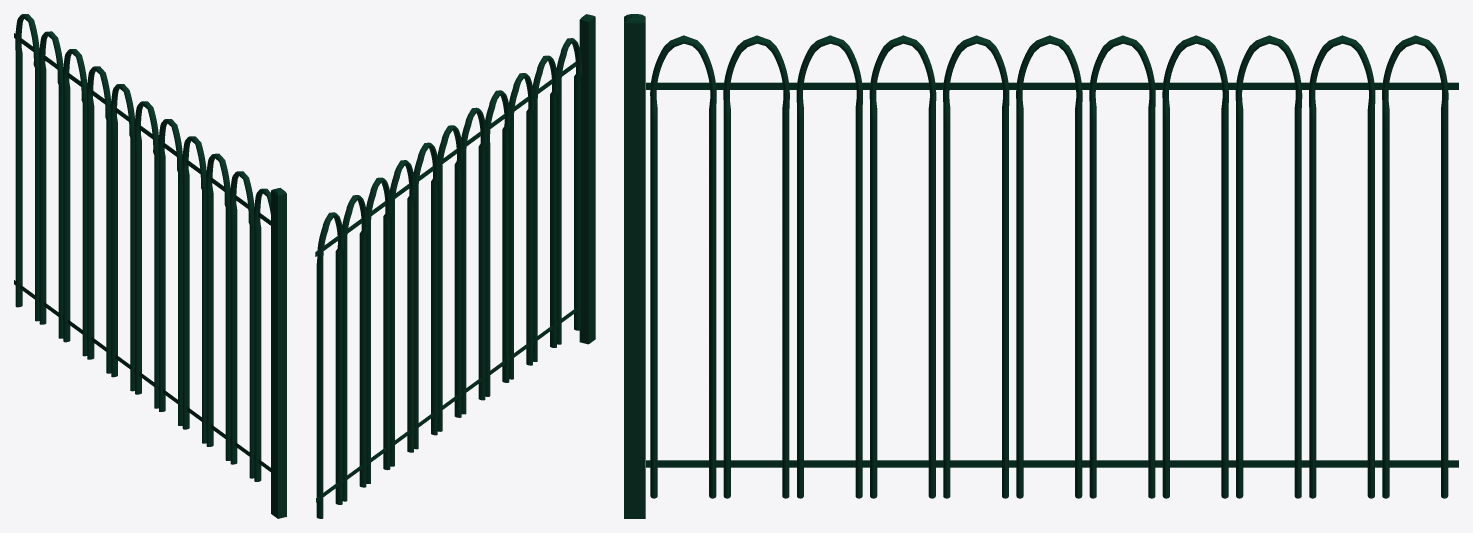
File: green round fence 1 post.fbx
The picture shows the model from 3 angles, left to right: view 1: azimuth 30°, elevation 25°; view 2: azimuth 150°, elevation 25°; view 3: azimuth 270°, elevation 25°; orthographic projection. The views are drawn at different scales.
Visible parts, largest first — view 1: Rounded fence part; view 2: Rounded fence part; view 3: Rounded fence part.
Boxes of the visible parts, x1,y1,x2,y2 form: Rounded fence part: (14,14,286,518); Rounded fence part: (315,14,595,518); Rounded fence part: (624,14,1458,518).
Size of the model in its own units: 0.4024 by 15.75 by 10.4.
